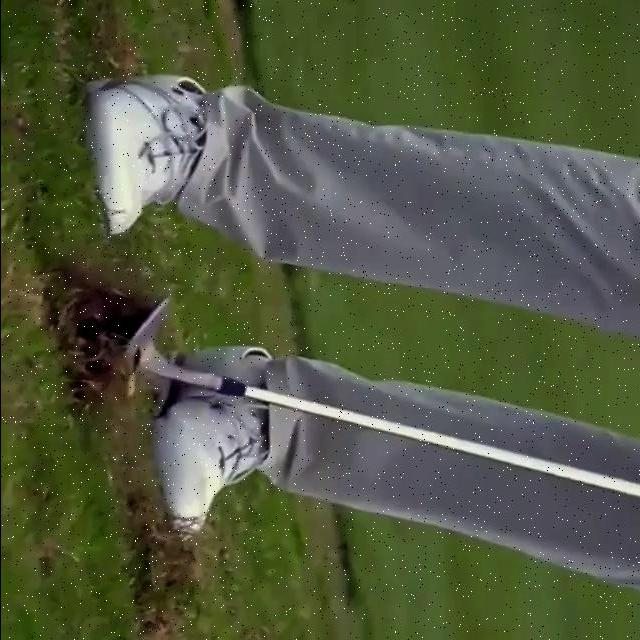ClubHandle: (123, 294, 638, 503)
ClubHead: (120, 296, 173, 364)
